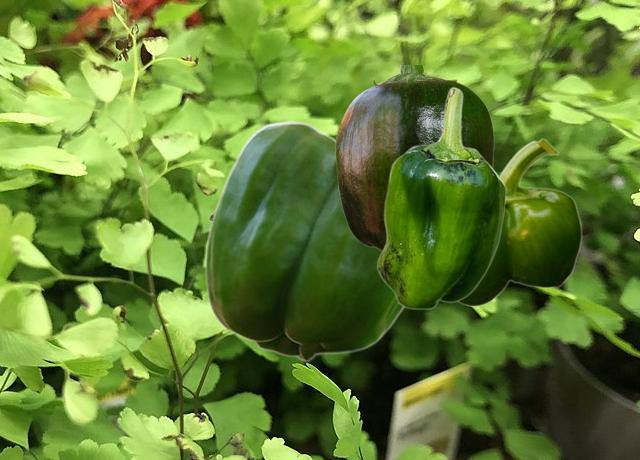bell_pepper: (204, 120, 406, 361), (335, 65, 493, 250), (376, 86, 505, 309), (458, 138, 581, 306)
